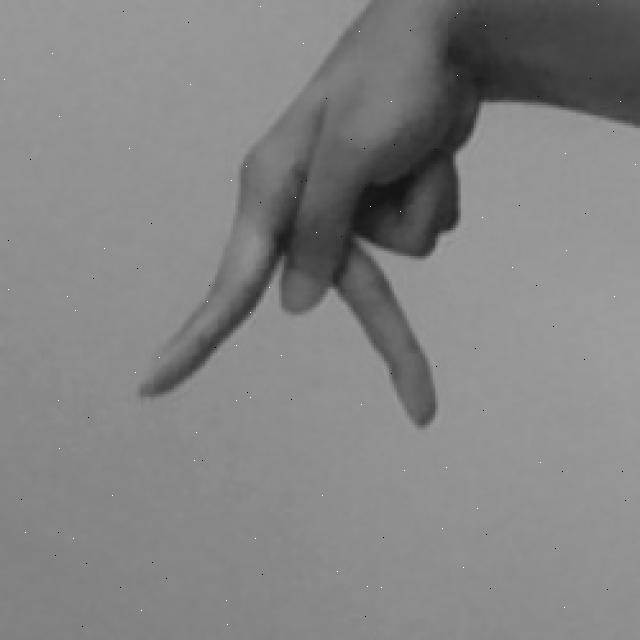P: (130, 0, 640, 438)
